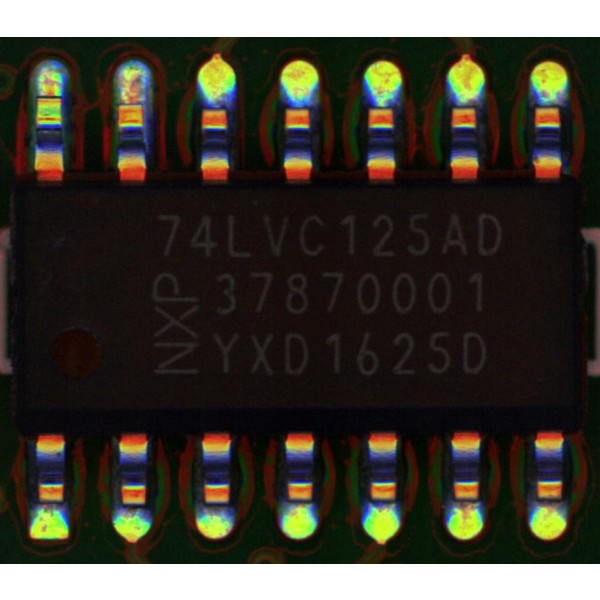Bad_podu: (120, 91, 142, 112), (37, 87, 60, 103)
